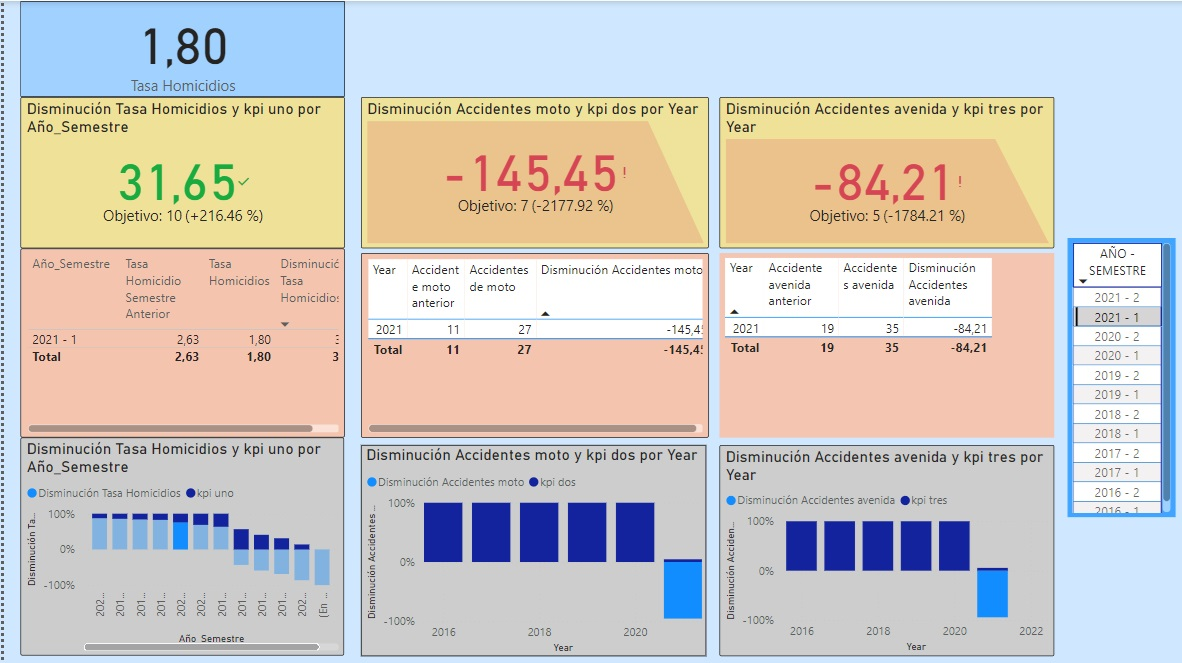

The page's visual inventory and layout, read from the dashboard file:
{"tool":"powerbi","page":{"name":"KPI","canvas":[1280,720],"ordinal":4},"visuals":[{"type":"card","fields":{"Values":["Medidas.Tasa Homicidios"]},"box":[17.8,0,349.8,103.6],"z":0},{"type":"tableEx","fields":{"Values":["Calendario.Año_Semestre","Medidas.Tasa Homicidio Semestre Anterior","Medidas.Tasa Homicidios","Medidas.Disminución Tasa Homicidios"]},"box":[17.8,267.2,349.8,204],"z":1000},{"type":"tableEx","fields":{"Values":["Calendario.Año_Semestre"]},"box":[1148,255.8,116.6,301.2],"z":2000},{"type":"hundredPercentStackedColumnChart","fields":{"Y":["Medidas.Disminución Tasa Homicidios","Medidas.kpi uno"],"Category":["Calendario.Año_Semestre"]},"box":[17.5,471.3,349.1,235.6],"z":3000},{"type":"kpi","fields":{"TrendLine":["Calendario.Date.Variación.Date Hierarchy.Year"],"Indicator":["Medidas.Disminución Accidentes moto"],"Goal":["Medidas.kpi dos"]},"box":[385.4,103.6,375.7,163.5],"z":4000},{"type":"tableEx","fields":{"Values":["Calendario.Date.Variación.Date Hierarchy.Year","Medidas.Accidente moto anterior","Medidas.Accidentes de moto","Medidas.Disminución Accidentes moto"]},"box":[385.4,272,375.7,199.2],"z":5000},{"type":"hundredPercentStackedColumnChart","fields":{"Y":["Medidas.Disminución Accidentes moto","Medidas.kpi dos"],"Category":["Calendario.Date.Variación.Date Hierarchy.Year"]},"box":[385.4,479.3,372.4,228.3],"z":6000},{"type":"kpi","fields":{"TrendLine":["Calendario.Año_Semestre"],"Indicator":["Medidas.Disminución Tasa Homicidios"],"Goal":["Medidas.kpi uno"]},"box":[17.8,103.6,349.8,163.5],"z":7000},{"type":"tableEx","fields":{"Values":["Calendario.Date.Variación.Date Hierarchy.Year","Medidas.Accidente avenida anterior","Medidas.Accidentes avenida","Medidas.Disminución Accidentes avenida"]},"box":[772.4,272,361.1,199.2],"z":8000},{"type":"kpi","fields":{"TrendLine":["Calendario.Date.Variación.Date Hierarchy.Year"],"Indicator":["Medidas.Disminución Accidentes avenida"],"Goal":["Medidas.kpi tres"]},"box":[772.4,103.6,361.1,163.5],"z":9000},{"type":"hundredPercentStackedColumnChart","fields":{"Category":["Calendario.Date.Variación.Date Hierarchy.Year"],"Y":["Medidas.Disminución Accidentes avenida","Medidas.kpi tres"]},"box":[772.4,479.3,361.1,228.3],"z":10000}]}

Visuals, with their boxes in screenshot pixels (x1, y1, x2, y2), scaled from the page's 1280x720 canvas onto the 1182x663 screenshot:
card - Medidas.Tasa Homicidios: x1=16 y1=0 x2=339 y2=95
tableEx - Calendario.Año_Semestre x Medidas.Tasa Homicidio Semestre Anterior: x1=16 y1=246 x2=339 y2=434
tableEx - Calendario.Año_Semestre: x1=1060 y1=236 x2=1168 y2=513
hundredPercentStackedColumnChart - Medidas.Disminución Tasa Homicidios x Medidas.kpi uno: x1=16 y1=434 x2=339 y2=651
kpi - Calendario.Date.Variación.Date Hierarchy.Year x Medidas.Disminución Accidentes moto: x1=356 y1=95 x2=703 y2=246
tableEx - Calendario.Date.Variación.Date Hierarchy.Year x Medidas.Accidente moto anterior: x1=356 y1=250 x2=703 y2=434
hundredPercentStackedColumnChart - Medidas.Disminución Accidentes moto x Medidas.kpi dos: x1=356 y1=441 x2=700 y2=652
kpi - Calendario.Año_Semestre x Medidas.Disminución Tasa Homicidios: x1=16 y1=95 x2=339 y2=246
tableEx - Calendario.Date.Variación.Date Hierarchy.Year x Medidas.Accidente avenida anterior: x1=713 y1=250 x2=1047 y2=434
kpi - Calendario.Date.Variación.Date Hierarchy.Year x Medidas.Disminución Accidentes avenida: x1=713 y1=95 x2=1047 y2=246
hundredPercentStackedColumnChart - Calendario.Date.Variación.Date Hierarchy.Year x Medidas.Disminución Accidentes avenida: x1=713 y1=441 x2=1047 y2=652
